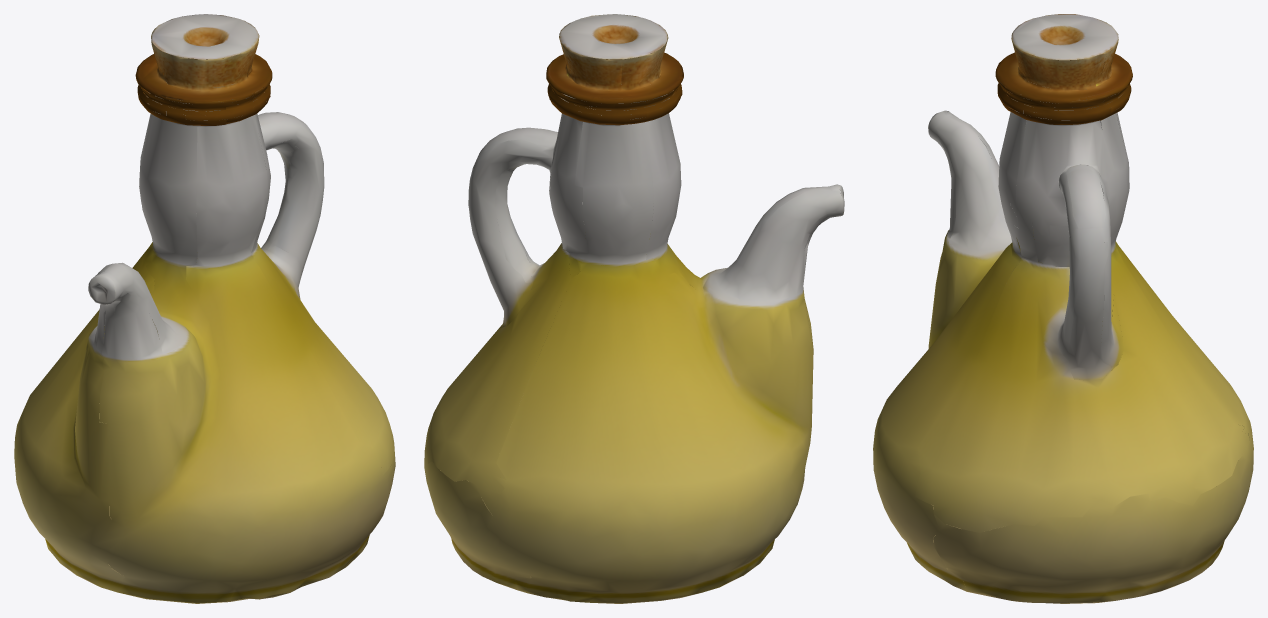
3 renders of one model, left to right at view 1: azimuth 30°, elevation 25°; view 2: azimuth 150°, elevation 25°; view 3: azimuth 270°, elevation 25°, orthographic.
Visible parts, largest first — view 1: material; view 2: material; view 3: material.
Part boxes in pixels (box(x1,y1,x2,y2)): material: box(14, 14, 395, 603); material: box(424, 14, 844, 603); material: box(873, 14, 1253, 603).
Bounding box in the file's own units: 1.33 × 1.9 × 1.3.
1 material, 1 textured.
